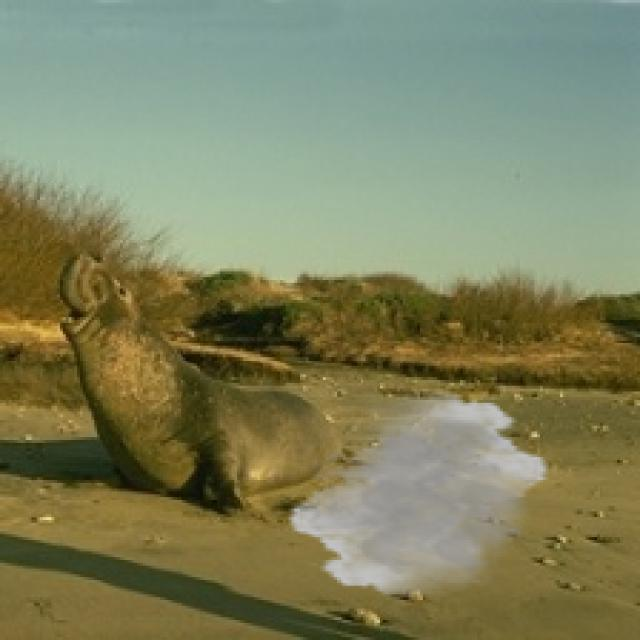Smoke: (286, 388, 552, 600)
